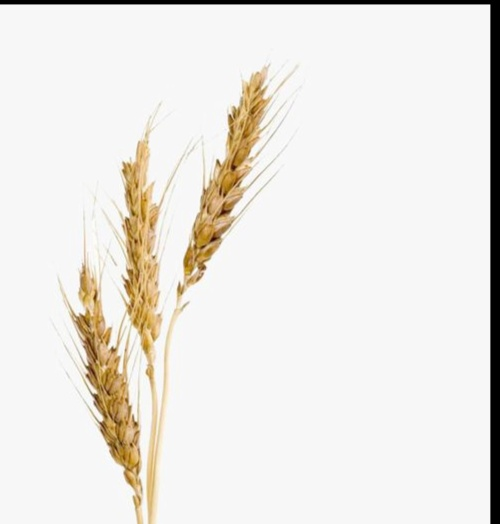wheat: (172, 44, 309, 337), (40, 248, 146, 494), (117, 117, 163, 383)
